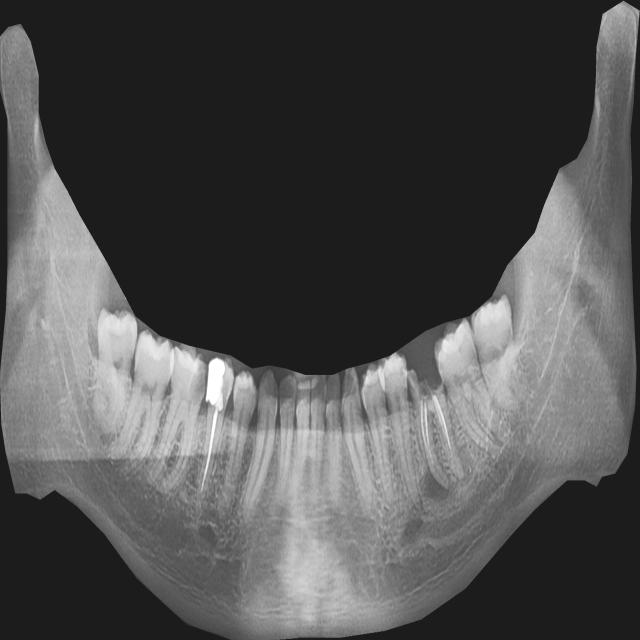mandibula: (0, 1, 640, 640)
